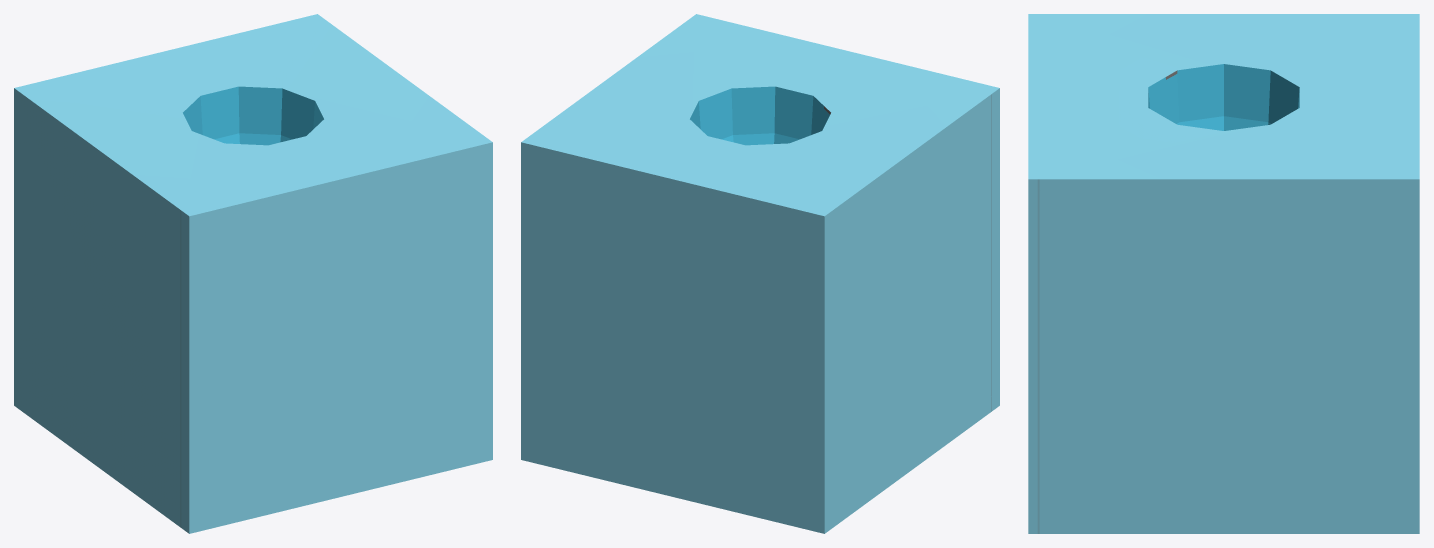
Rendered from ice.fbx.
3 renders of one model, left to right at view 1: azimuth 30°, elevation 25°; view 2: azimuth 150°, elevation 25°; view 3: azimuth 270°, elevation 25°, orthographic. The views are drawn at different scales.
Parts seen in each view (by area): view 1: pCube2; view 2: pCube2; view 3: pCube2.
Boxes of the visible parts, x1,y1,x2,y2 form: pCube2: (14,14,492,533); pCube2: (521,14,999,533); pCube2: (1028,14,1419,533).
Bounding box in the file's own units: 38.5 × 38.5 × 38.5.
Materials: 1 (1 with a texture image).
